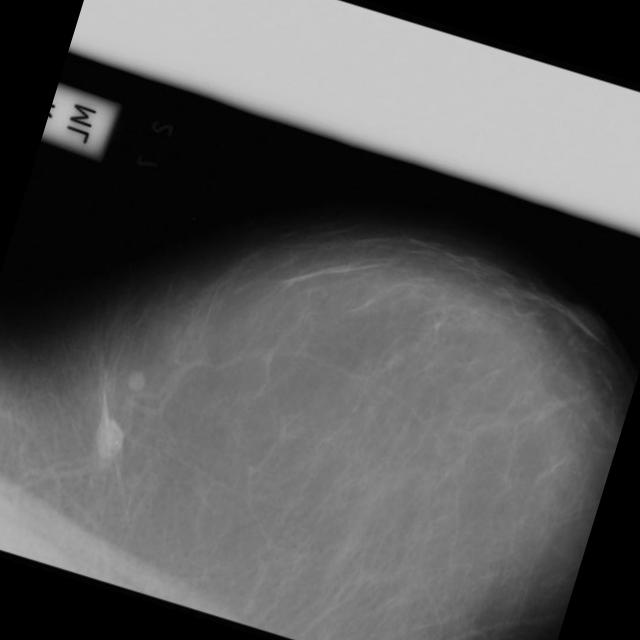CIRC: (67, 384, 148, 466)
